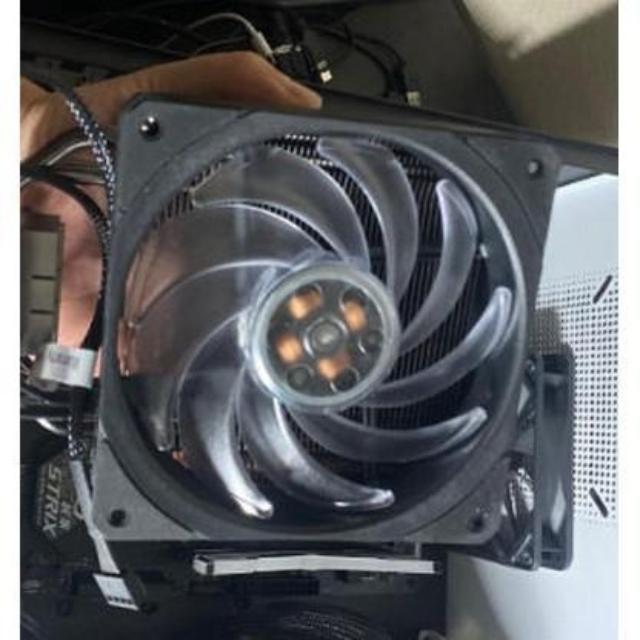CPU_Fan: (86, 67, 546, 565)
